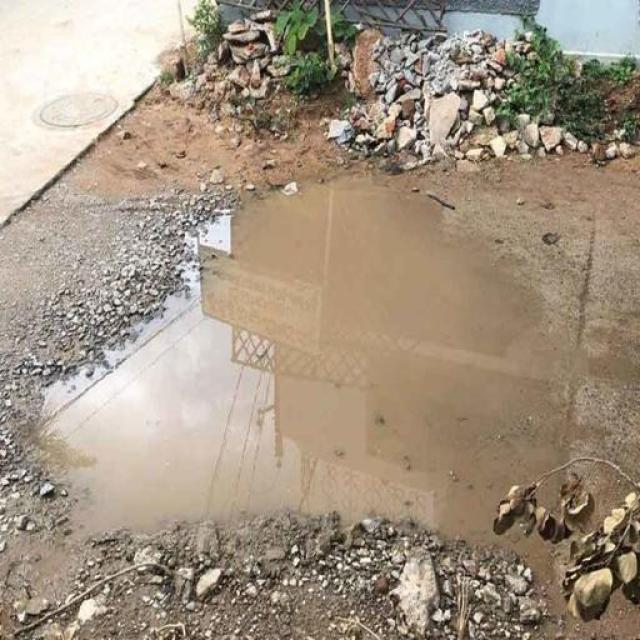puddle: (87, 346, 537, 523), (225, 223, 484, 528)
